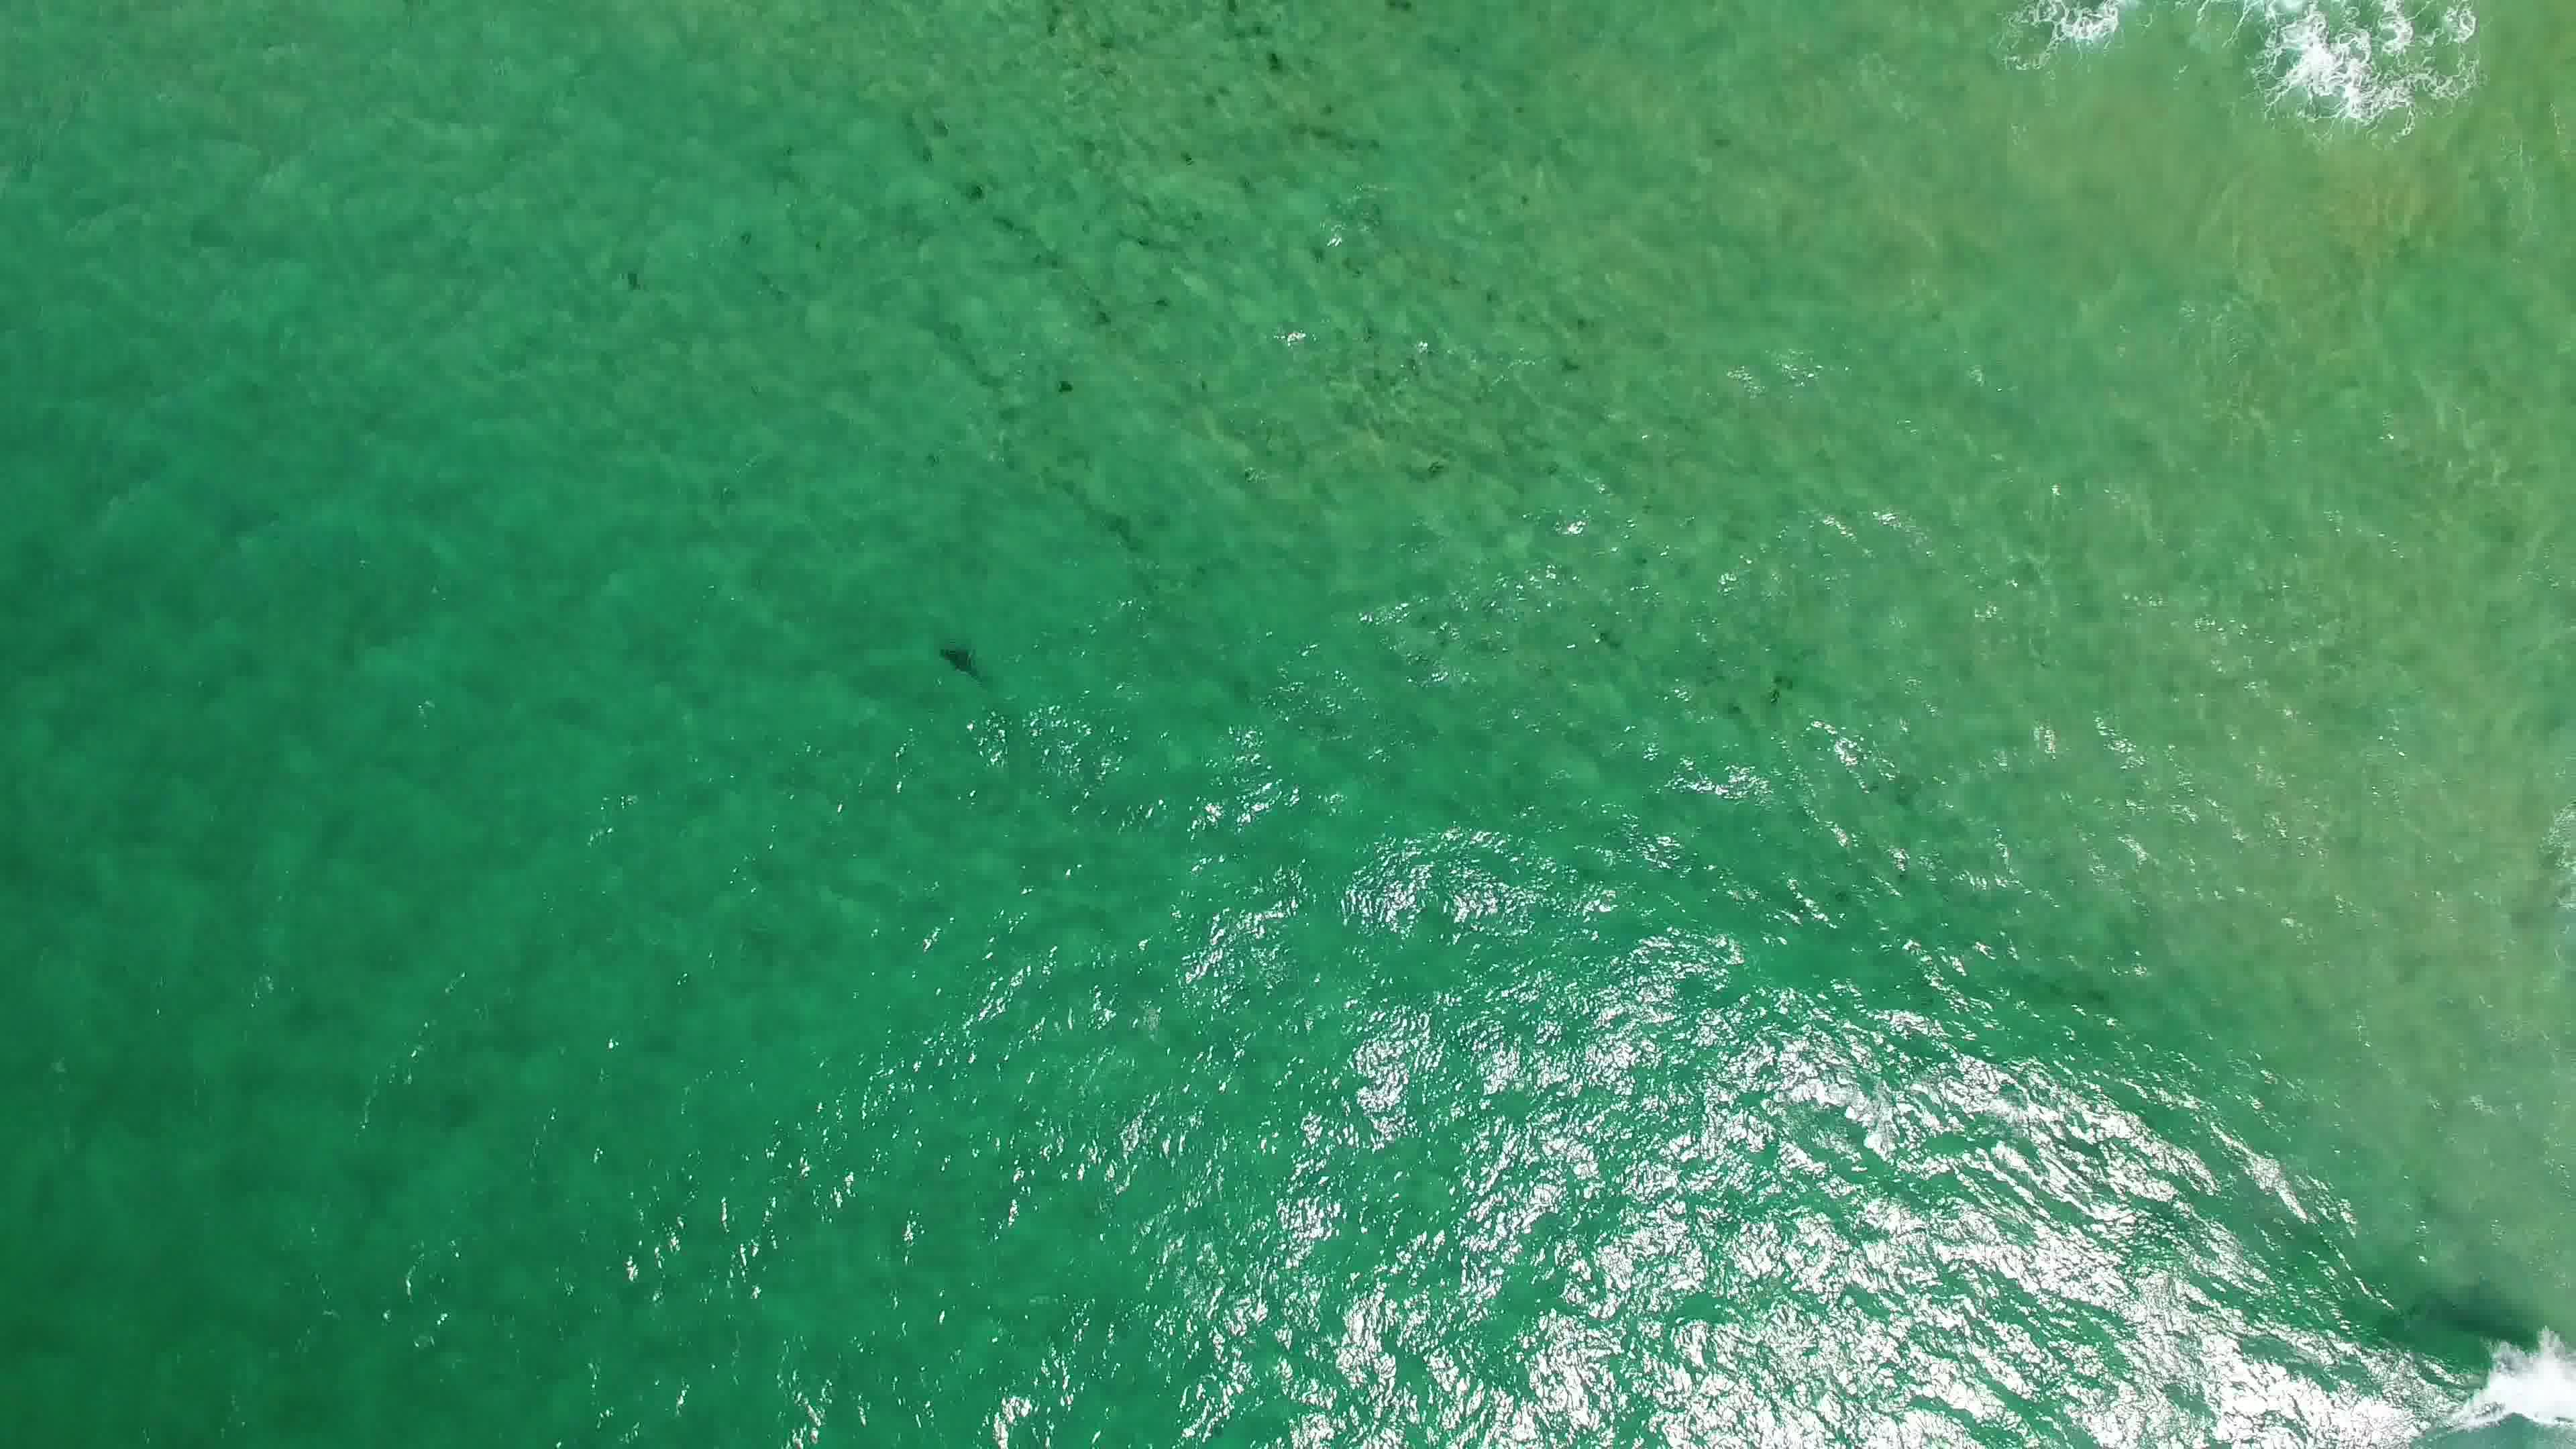shark: (938, 639, 993, 692)
